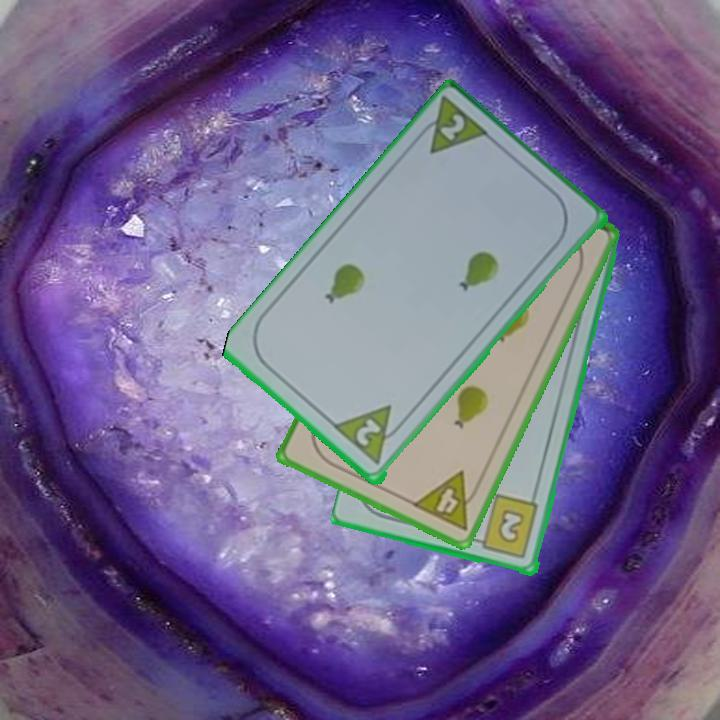2b: (470, 492, 542, 562)
2p: (331, 402, 410, 469), (436, 110, 468, 144)
4p: (408, 467, 486, 534)
